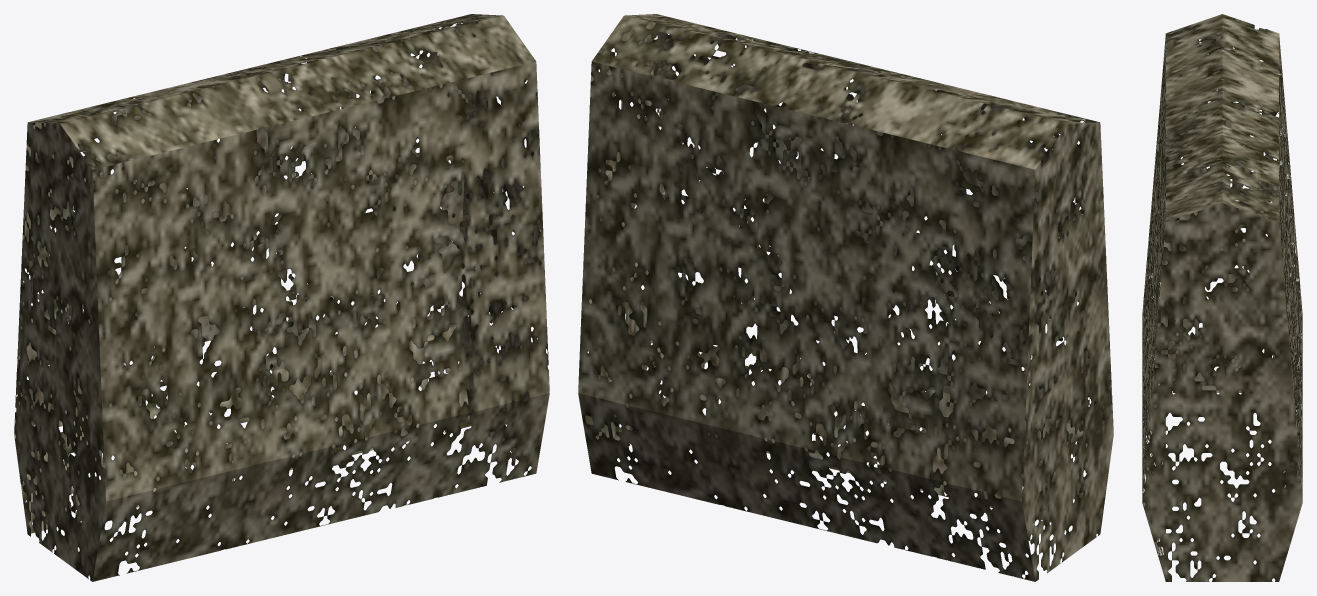
The model's file is bush_tall_dead.fbx.
3 renders of one model, left to right at view 1: azimuth 30°, elevation 25°; view 2: azimuth 150°, elevation 25°; view 3: azimuth 270°, elevation 25°, orthographic. The views are drawn at different scales.
Visible parts, largest first — view 1: bush_tall_dead; view 2: bush_tall_dead; view 3: bush_tall_dead.
Boxes of the visible parts, bbox=[...] form: bush_tall_dead: bbox=[14, 14, 549, 581]; bush_tall_dead: bbox=[578, 14, 1113, 581]; bush_tall_dead: bbox=[1142, 14, 1302, 581].
Bounding box in the file's own units: 201 × 188 × 71.91.
Materials: 1 (1 with a texture image).
